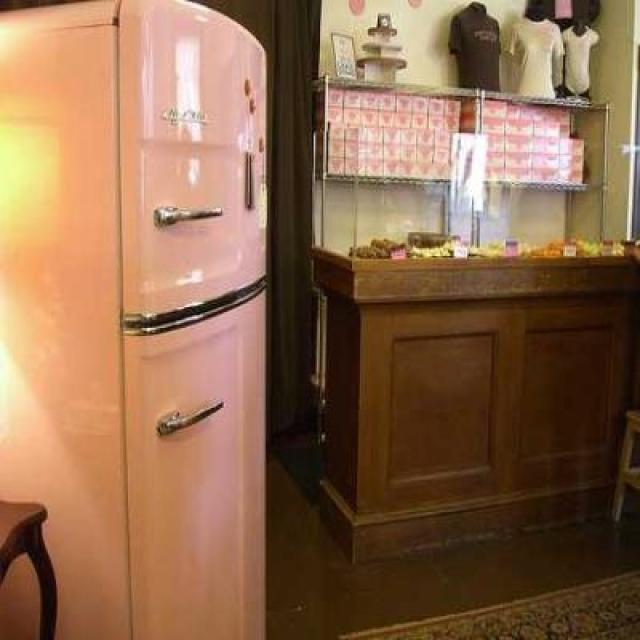refrigerator: (120, 14, 278, 640)
